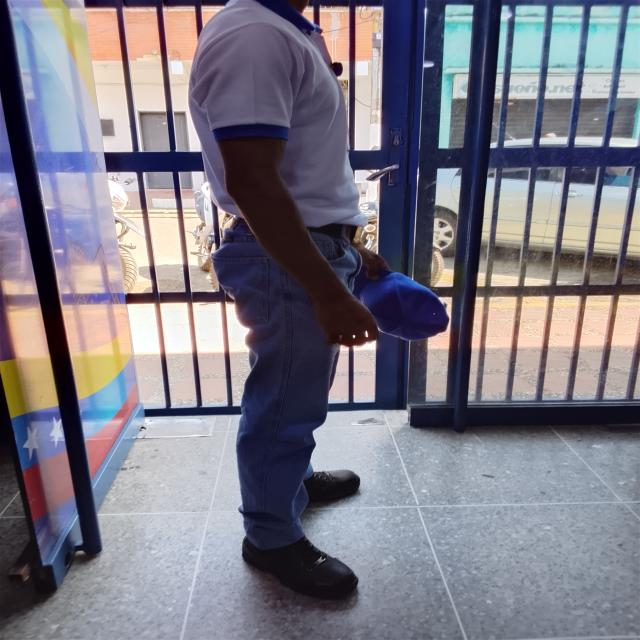uniforme_superior: (187, 0, 366, 229)
